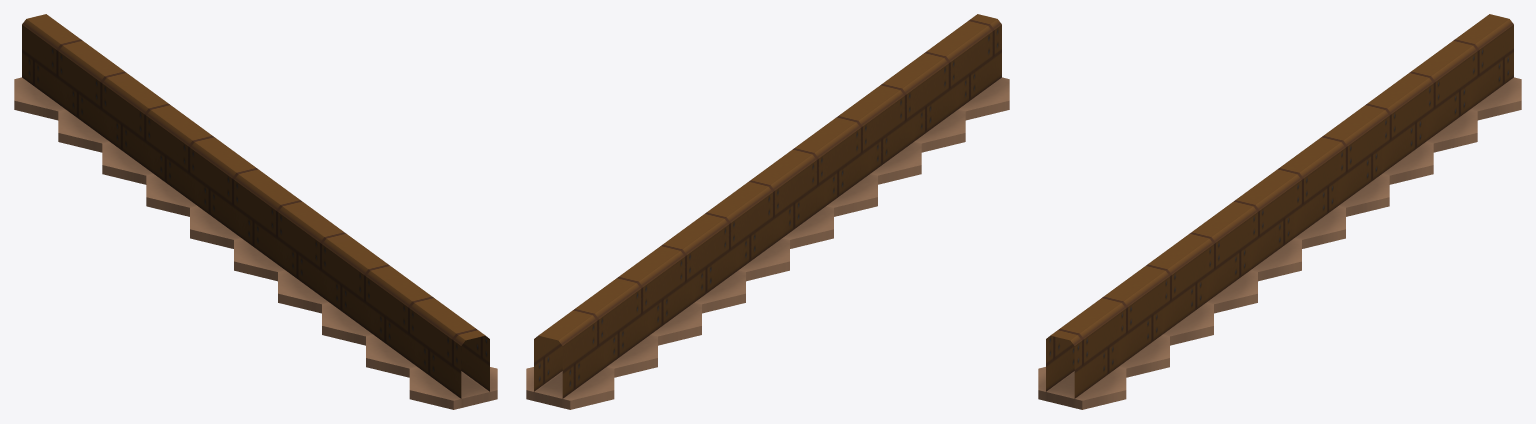
Rendered from Barriere10_Centre_Pont.FBX.
3 renders of one model, left to right at view 1: azimuth 30°, elevation 25°; view 2: azimuth 150°, elevation 25°; view 3: azimuth 330°, elevation 25°, orthographic.
Visible parts, largest first — view 1: Barriere10_Centre_Pont; view 2: Barriere10_Centre_Pont; view 3: Barriere10_Centre_Pont.
Boxes of the visible parts, x1,y1,x2,y2 form: Barriere10_Centre_Pont: (14, 14, 497, 409); Barriere10_Centre_Pont: (526, 14, 1009, 409); Barriere10_Centre_Pont: (1038, 14, 1521, 409).
Size of the model in its own units: 1 by 0.7246 by 8.66.
